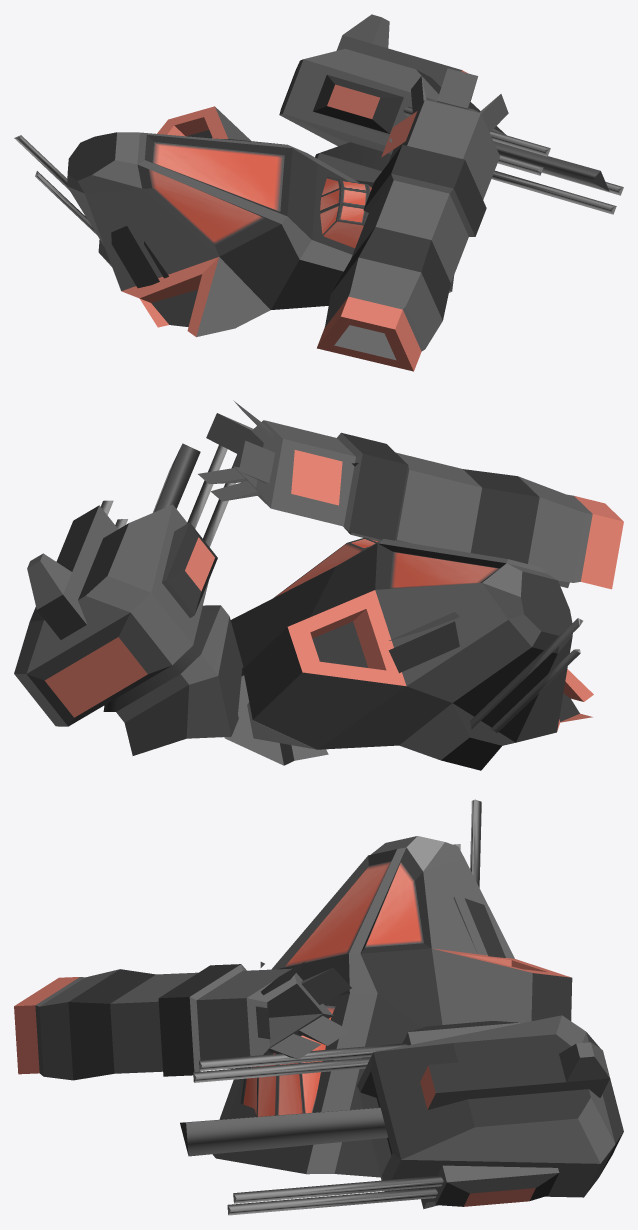
Rendered from Space_Junk_1.fbx.
3 renders of one model, top to bottom at view 1: azimuth 30°, elevation 25°; view 2: azimuth 150°, elevation 25°; view 3: azimuth 270°, elevation 25°, orthographic. The views are drawn at different scales.
Visible parts, largest first — view 1: Space_Junk_1; view 2: Space_Junk_1; view 3: Space_Junk_1.
Boxes of the visible parts, left/top/right/bottom form: Space_Junk_1: left=14, top=14, right=623, bottom=371; Space_Junk_1: left=14, top=400, right=623, bottom=770; Space_Junk_1: left=14, top=799, right=623, bottom=1215.
Bounding box in the file's own units: 357 × 133 × 322.
